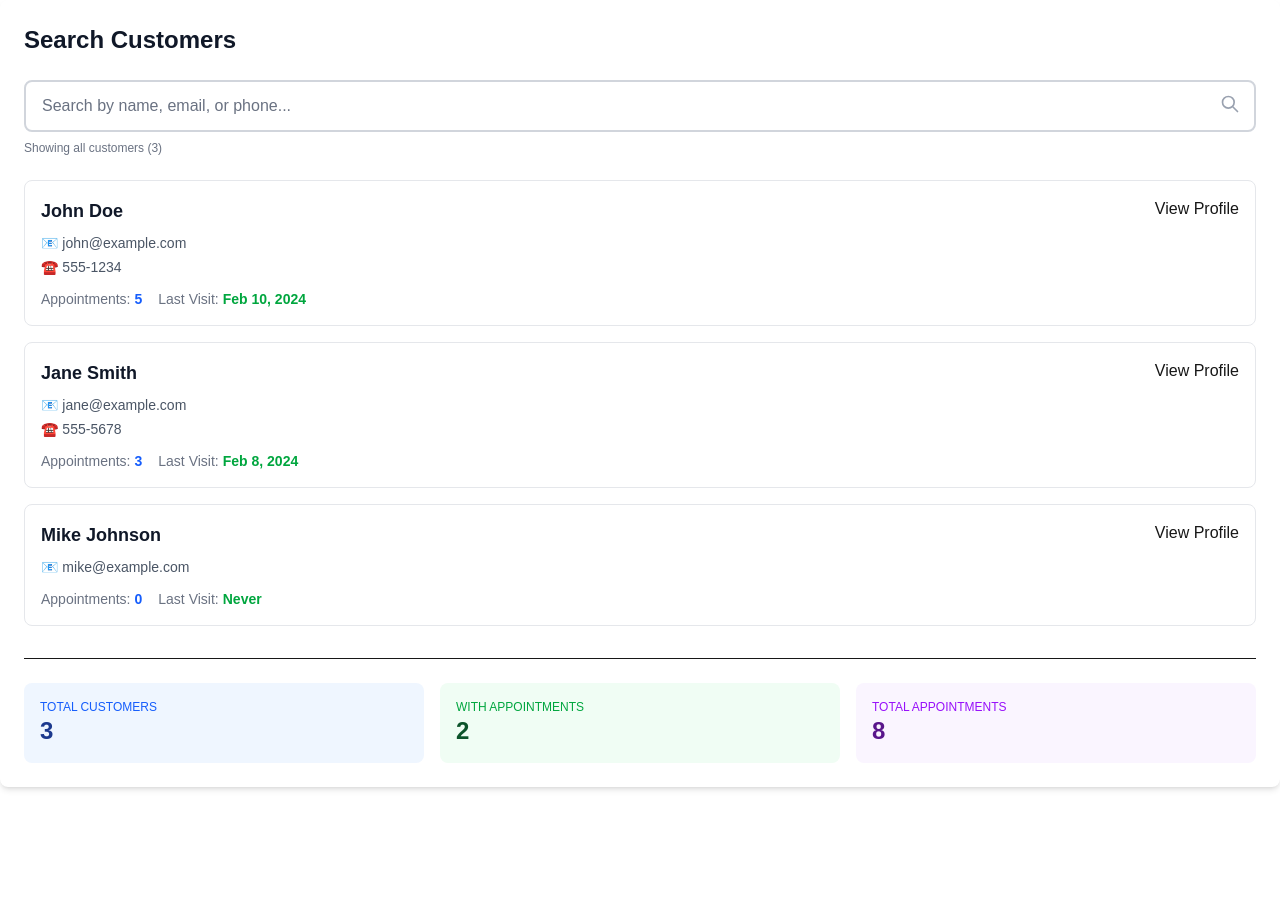
it: CustomerSearch Component › filters customers by phone
In the field with placeholder "Search by name, email, or phone...": (640, 106) left=24, top=80, right=1256, bottom=132, type "555-1234"
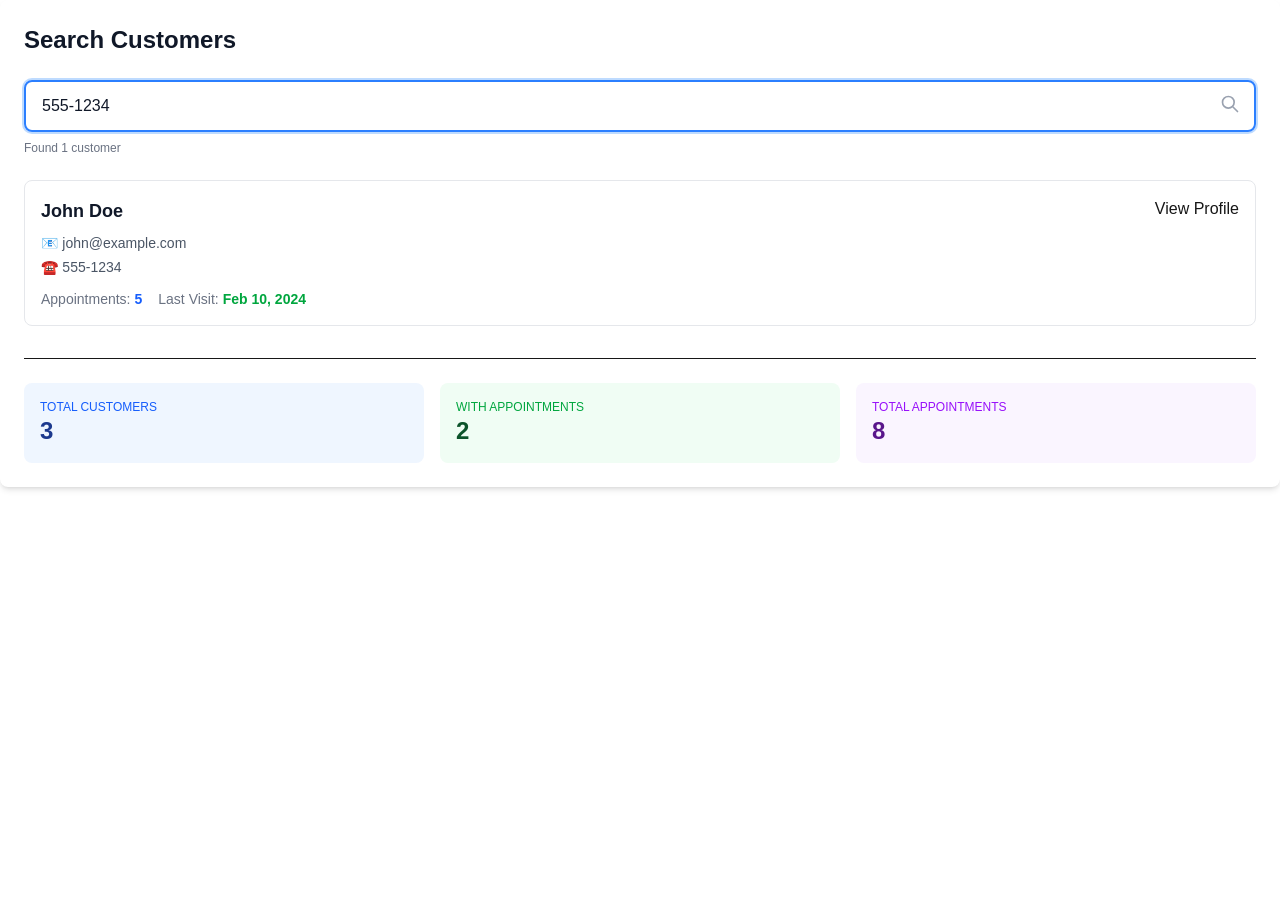
Expected: the heading "John Doe" is shown, left=41, top=201, right=123, bottom=221
Expected: the heading "Jane Smith" is gone
